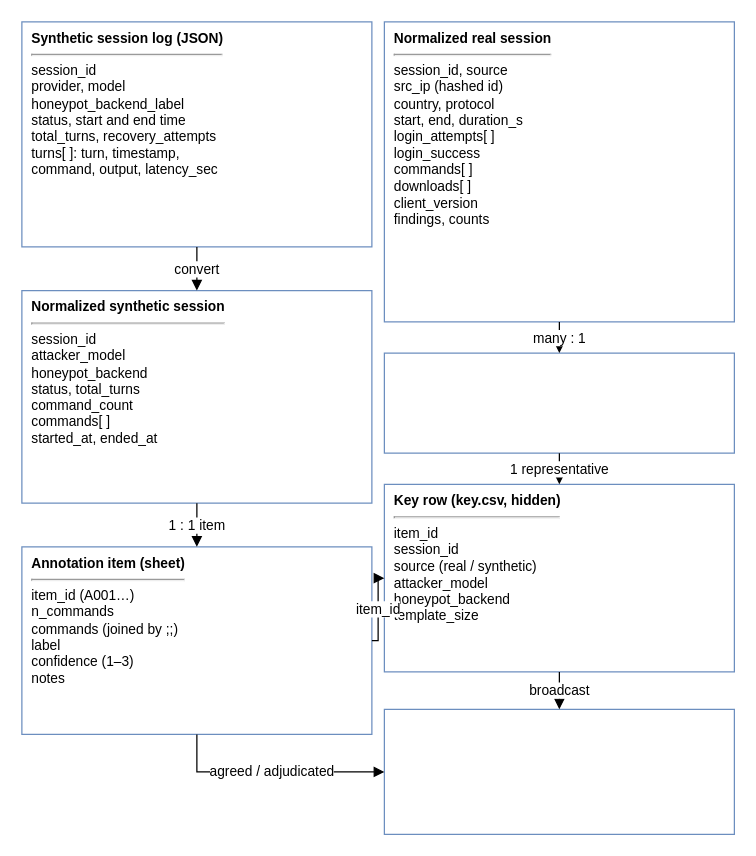
Image size: 756x856. Some labels were removed from this diagram. Each missing label, with the centre of its shape:
"Final label (labels_final.csv) session_id label (8 classes) source" belongs at (x=558, y=771).
"Template key tuple of normalized commands (same sequence = same template)" belongs at (x=558, y=402).
